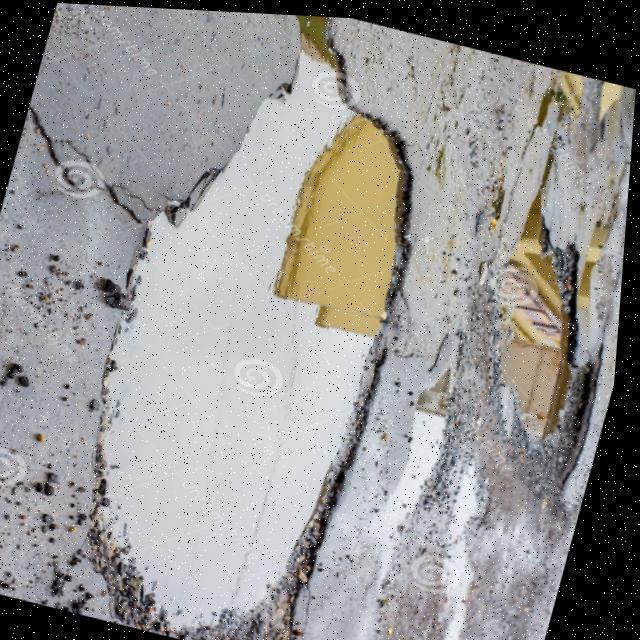Pothole: (85, 14, 427, 640), (490, 164, 612, 507)
